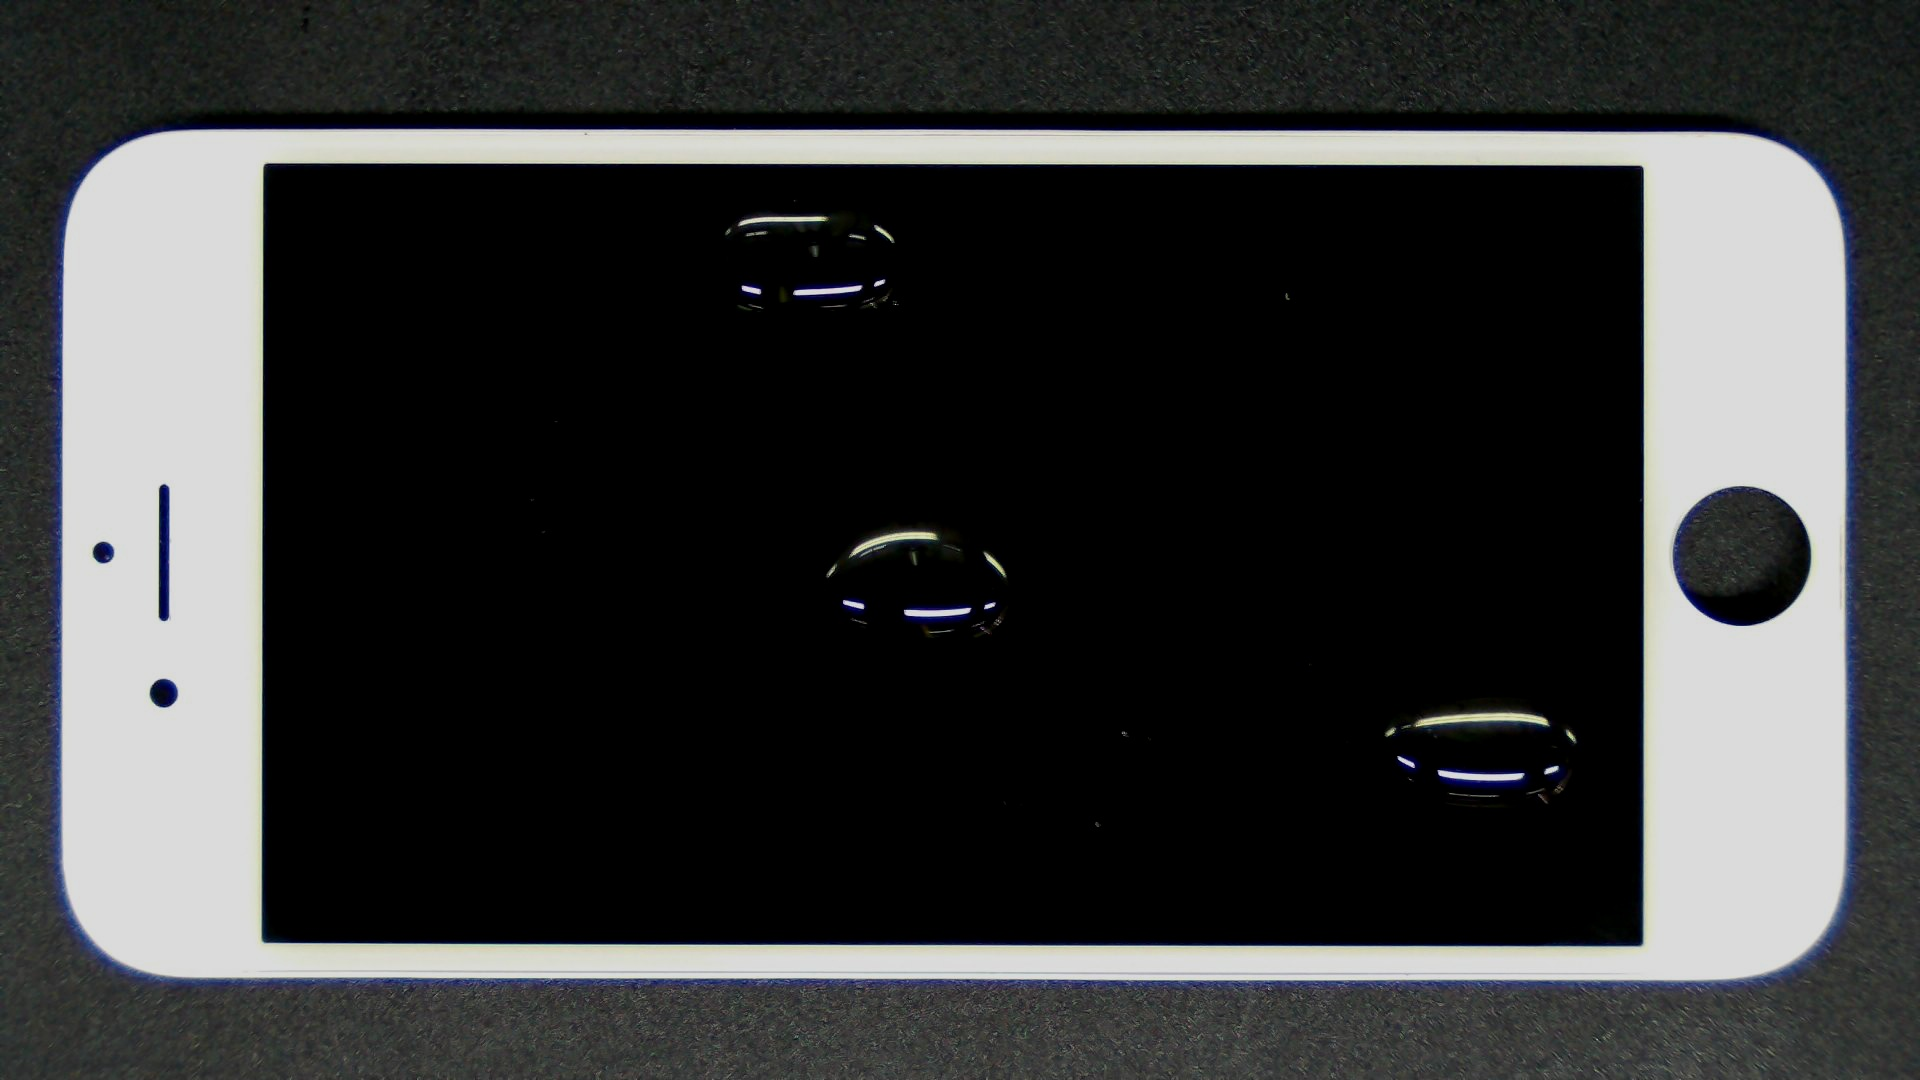oil: (753, 347, 1920, 1043), (456, 256, 1366, 770), (394, 102, 1180, 306)
